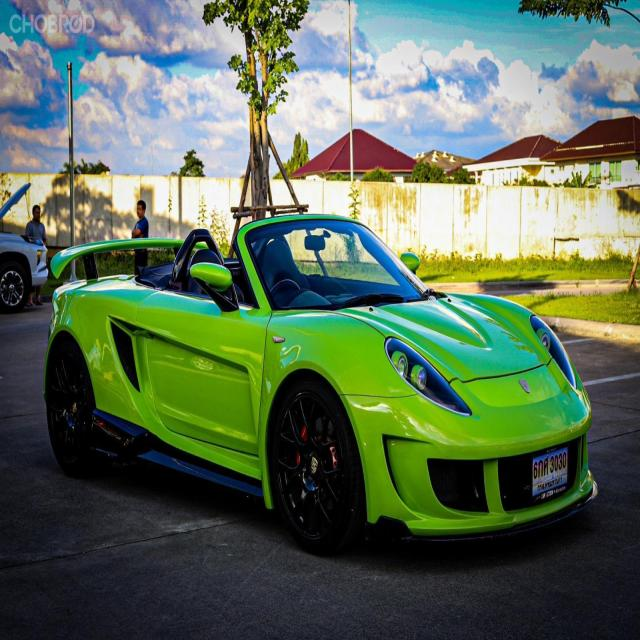license_plate: (530, 445, 570, 512)
